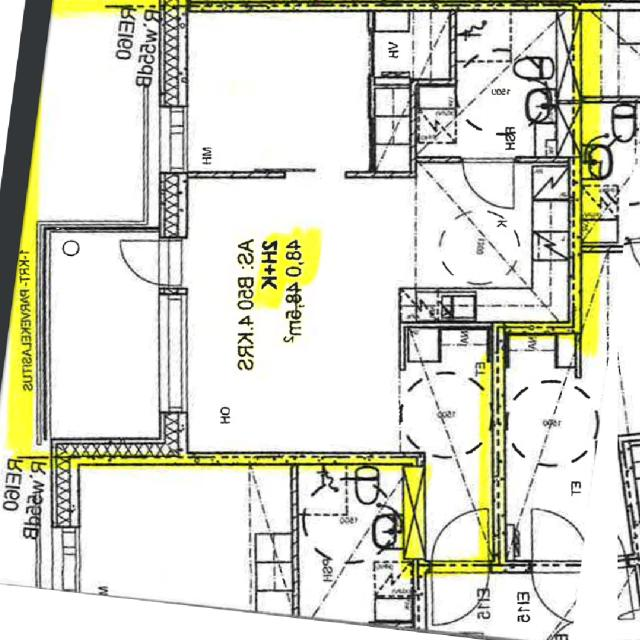door: (432, 507, 489, 573), (432, 560, 489, 625), (112, 240, 188, 285), (464, 157, 514, 210)
